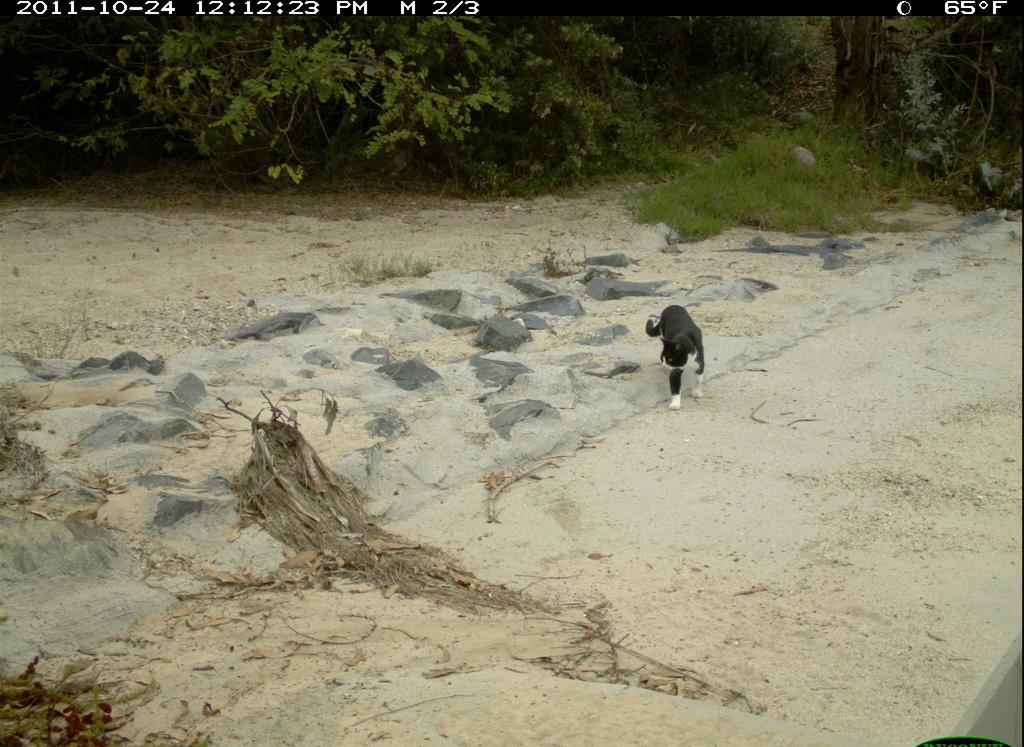cat: (646, 286, 715, 420)
